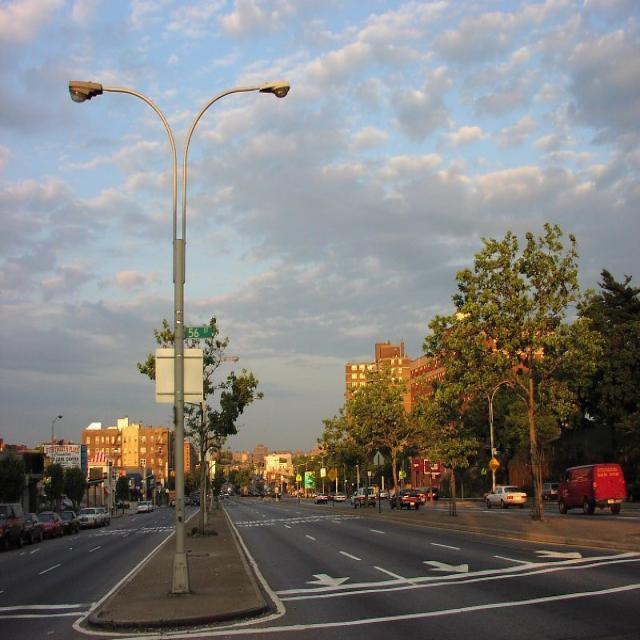Electric pole: (69, 80, 290, 595)
